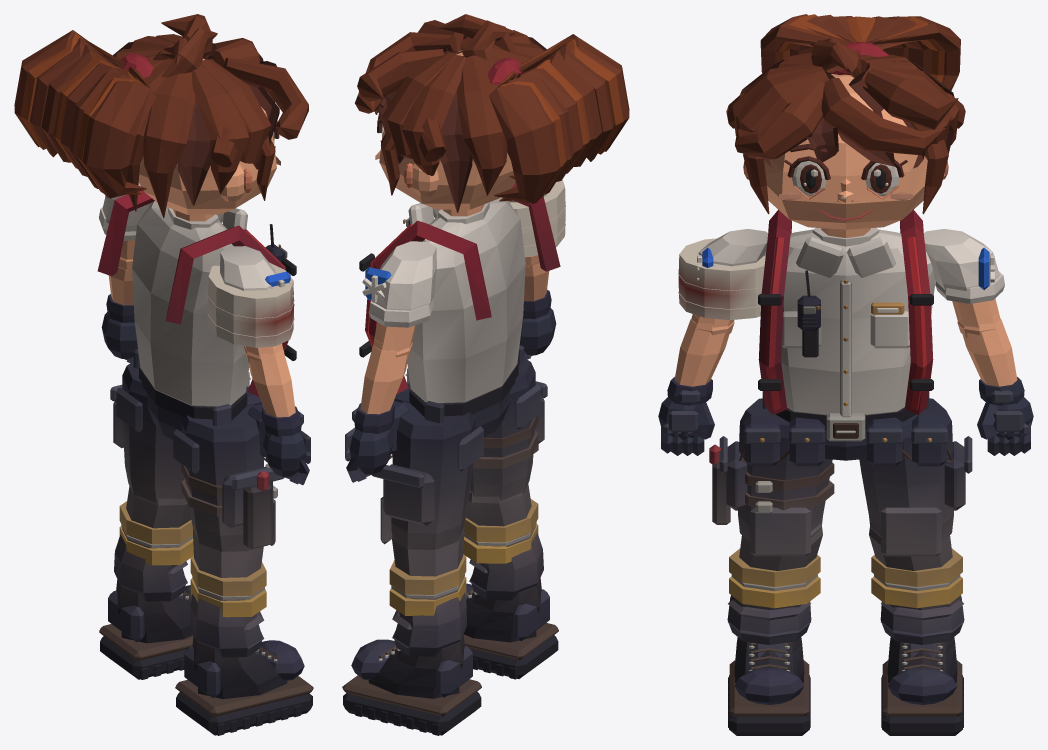
Rendered from npc.rosa.aftermath.glb.
The picture shows the model from 3 angles, left to right: view 1: azimuth 30°, elevation 25°; view 2: azimuth 150°, elevation 25°; view 3: azimuth 270°, elevation 25°; orthographic projection.
Visible parts, largest first — view 1: head, torso, legR, footR, shinR, armR, shinL, footL, legL, foreArmR, hip, handR (+3 smaller); view 2: head, torso, legL, footL, shinL, shinR, footR, legR, armL, foreArmL, hip, handL (+3 smaller); view 3: head, torso, legR, hip, legL, shinR, shinL, footL, footR, armR, armL, foreArmR (+3 smaller).
Part boxes in pixels (x1=…): head: x1=14, y1=14, x2=308, y2=221; torso: x1=97, y1=190, x2=296, y2=406; legR: x1=173, y1=404, x2=284, y2=551; footR: x1=175, y1=635, x2=313, y2=735; shinR: x1=190, y1=529, x2=266, y2=657; armR: x1=207, y1=246, x2=294, y2=355; shinL: x1=114, y1=486, x2=193, y2=601; footL: x1=99, y1=579, x2=193, y2=679; legL: x1=110, y1=361, x2=185, y2=503; foreArmR: x1=244, y1=343, x2=303, y2=436; hip: x1=133, y1=349, x2=266, y2=461; handR: x1=263, y1=430, x2=310, y2=485; head: x1=355, y1=14, x2=629, y2=216; torso: x1=359, y1=183, x2=560, y2=403; legL: x1=371, y1=401, x2=483, y2=549; footL: x1=342, y1=634, x2=481, y2=735; shinL: x1=389, y1=528, x2=466, y2=656; shinR: x1=463, y1=484, x2=543, y2=600; footR: x1=463, y1=578, x2=558, y2=679; legR: x1=470, y1=358, x2=547, y2=500; armL: x1=362, y1=241, x2=436, y2=351; foreArmL: x1=352, y1=339, x2=412, y2=433; hip: x1=389, y1=345, x2=524, y2=459; handL: x1=345, y1=427, x2=393, y2=482; head: x1=726, y1=14, x2=965, y2=237; torso: x1=758, y1=209, x2=935, y2=417; legR: x1=709, y1=398, x2=834, y2=556; hip: x1=739, y1=391, x2=952, y2=466; legL: x1=859, y1=398, x2=972, y2=556; shinR: x1=727, y1=523, x2=822, y2=644; shinL: x1=869, y1=523, x2=964, y2=644; footL: x1=881, y1=637, x2=963, y2=735; footR: x1=728, y1=637, x2=810, y2=735; armR: x1=678, y1=229, x2=767, y2=327; armL: x1=924, y1=229, x2=1004, y2=327; foreArmR: x1=667, y1=314, x2=734, y2=405.
Bounding box in the file's own units: 0.6215 × 1.81 × 0.9277.
